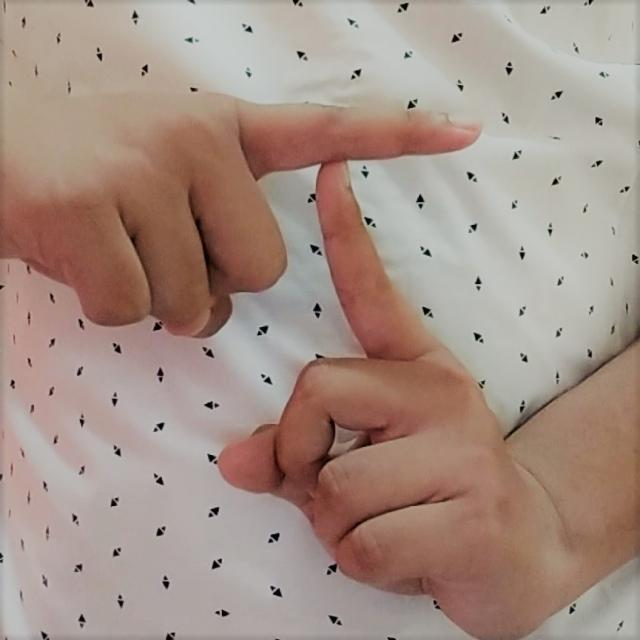T: (43, 53, 582, 604)
